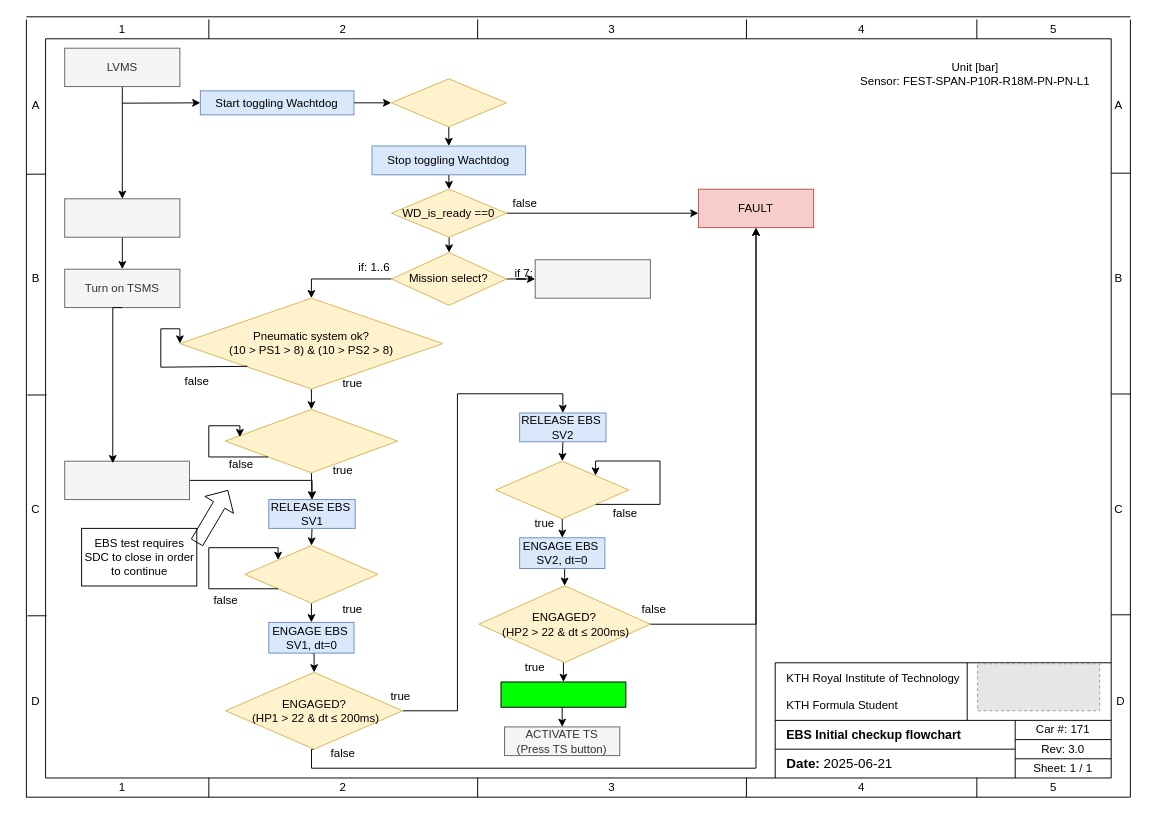
This 1154x815 diagram has some shape labels left out. Grey dashed boxes stand in for pictures. Each missing label, with the box of its shape:
Brakes released? (HP1 ≤ 1 ): (244, 545, 378, 603)
Brakes released? (HP2 ≤ 1 ): (495, 460, 629, 519)
Close SDC: (64, 460, 190, 500)
EBS ARMED: (500, 681, 626, 707)
EBS deactivated (manual driving): (534, 259, 650, 298)
ENGAGED? (HP1 > 22 & HP2 > 22): (224, 408, 398, 473)
Turn on ASMS: (64, 198, 180, 237)
WD_is_ready ==1: (390, 78, 506, 127)
